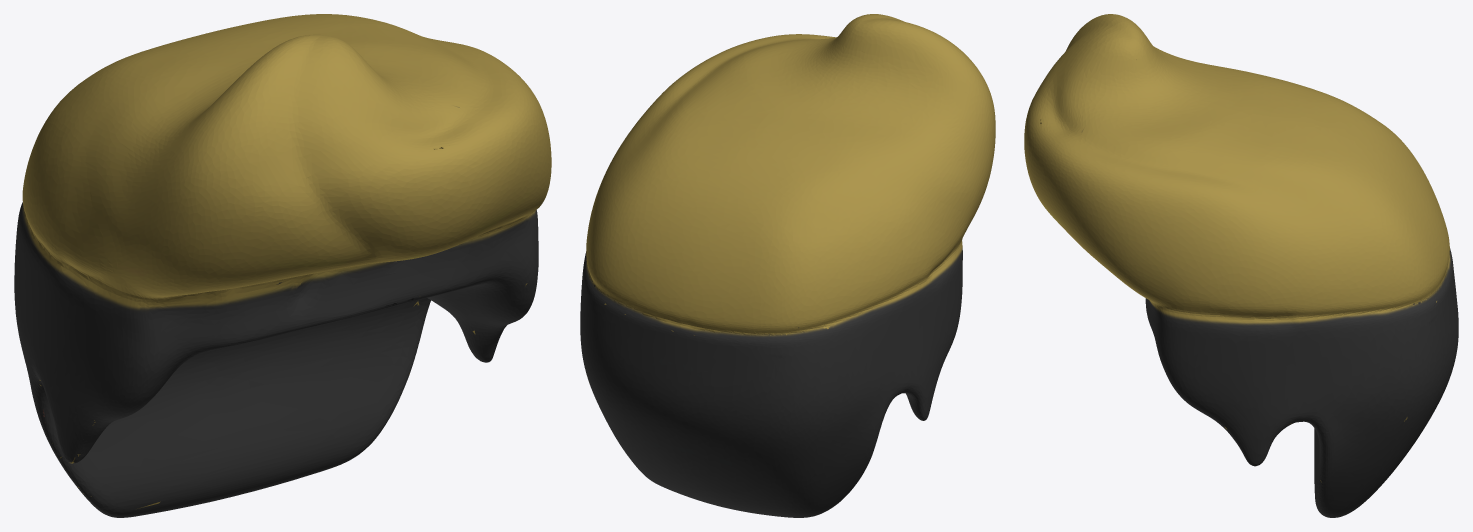
File: Male_Hair_1_5.glb
3 views of the same model, side by side, from view 1: azimuth 30°, elevation 25°; view 2: azimuth 150°, elevation 25°; view 3: azimuth 270°, elevation 25° (orthographic). The views are drawn at different scales.
Visible parts, largest first — view 1: Plane.041; view 2: Plane.041; view 3: Plane.041.
Part boxes in pixels (left/top/right/bottom): Plane.041: left=14, top=14, right=551, bottom=517; Plane.041: left=580, top=14, right=995, bottom=517; Plane.041: left=1024, top=14, right=1458, bottom=517.
Bounding box in the file's own units: 35.72 × 44.54 × 40.3.
Materials: 1 (1 with a texture image).
